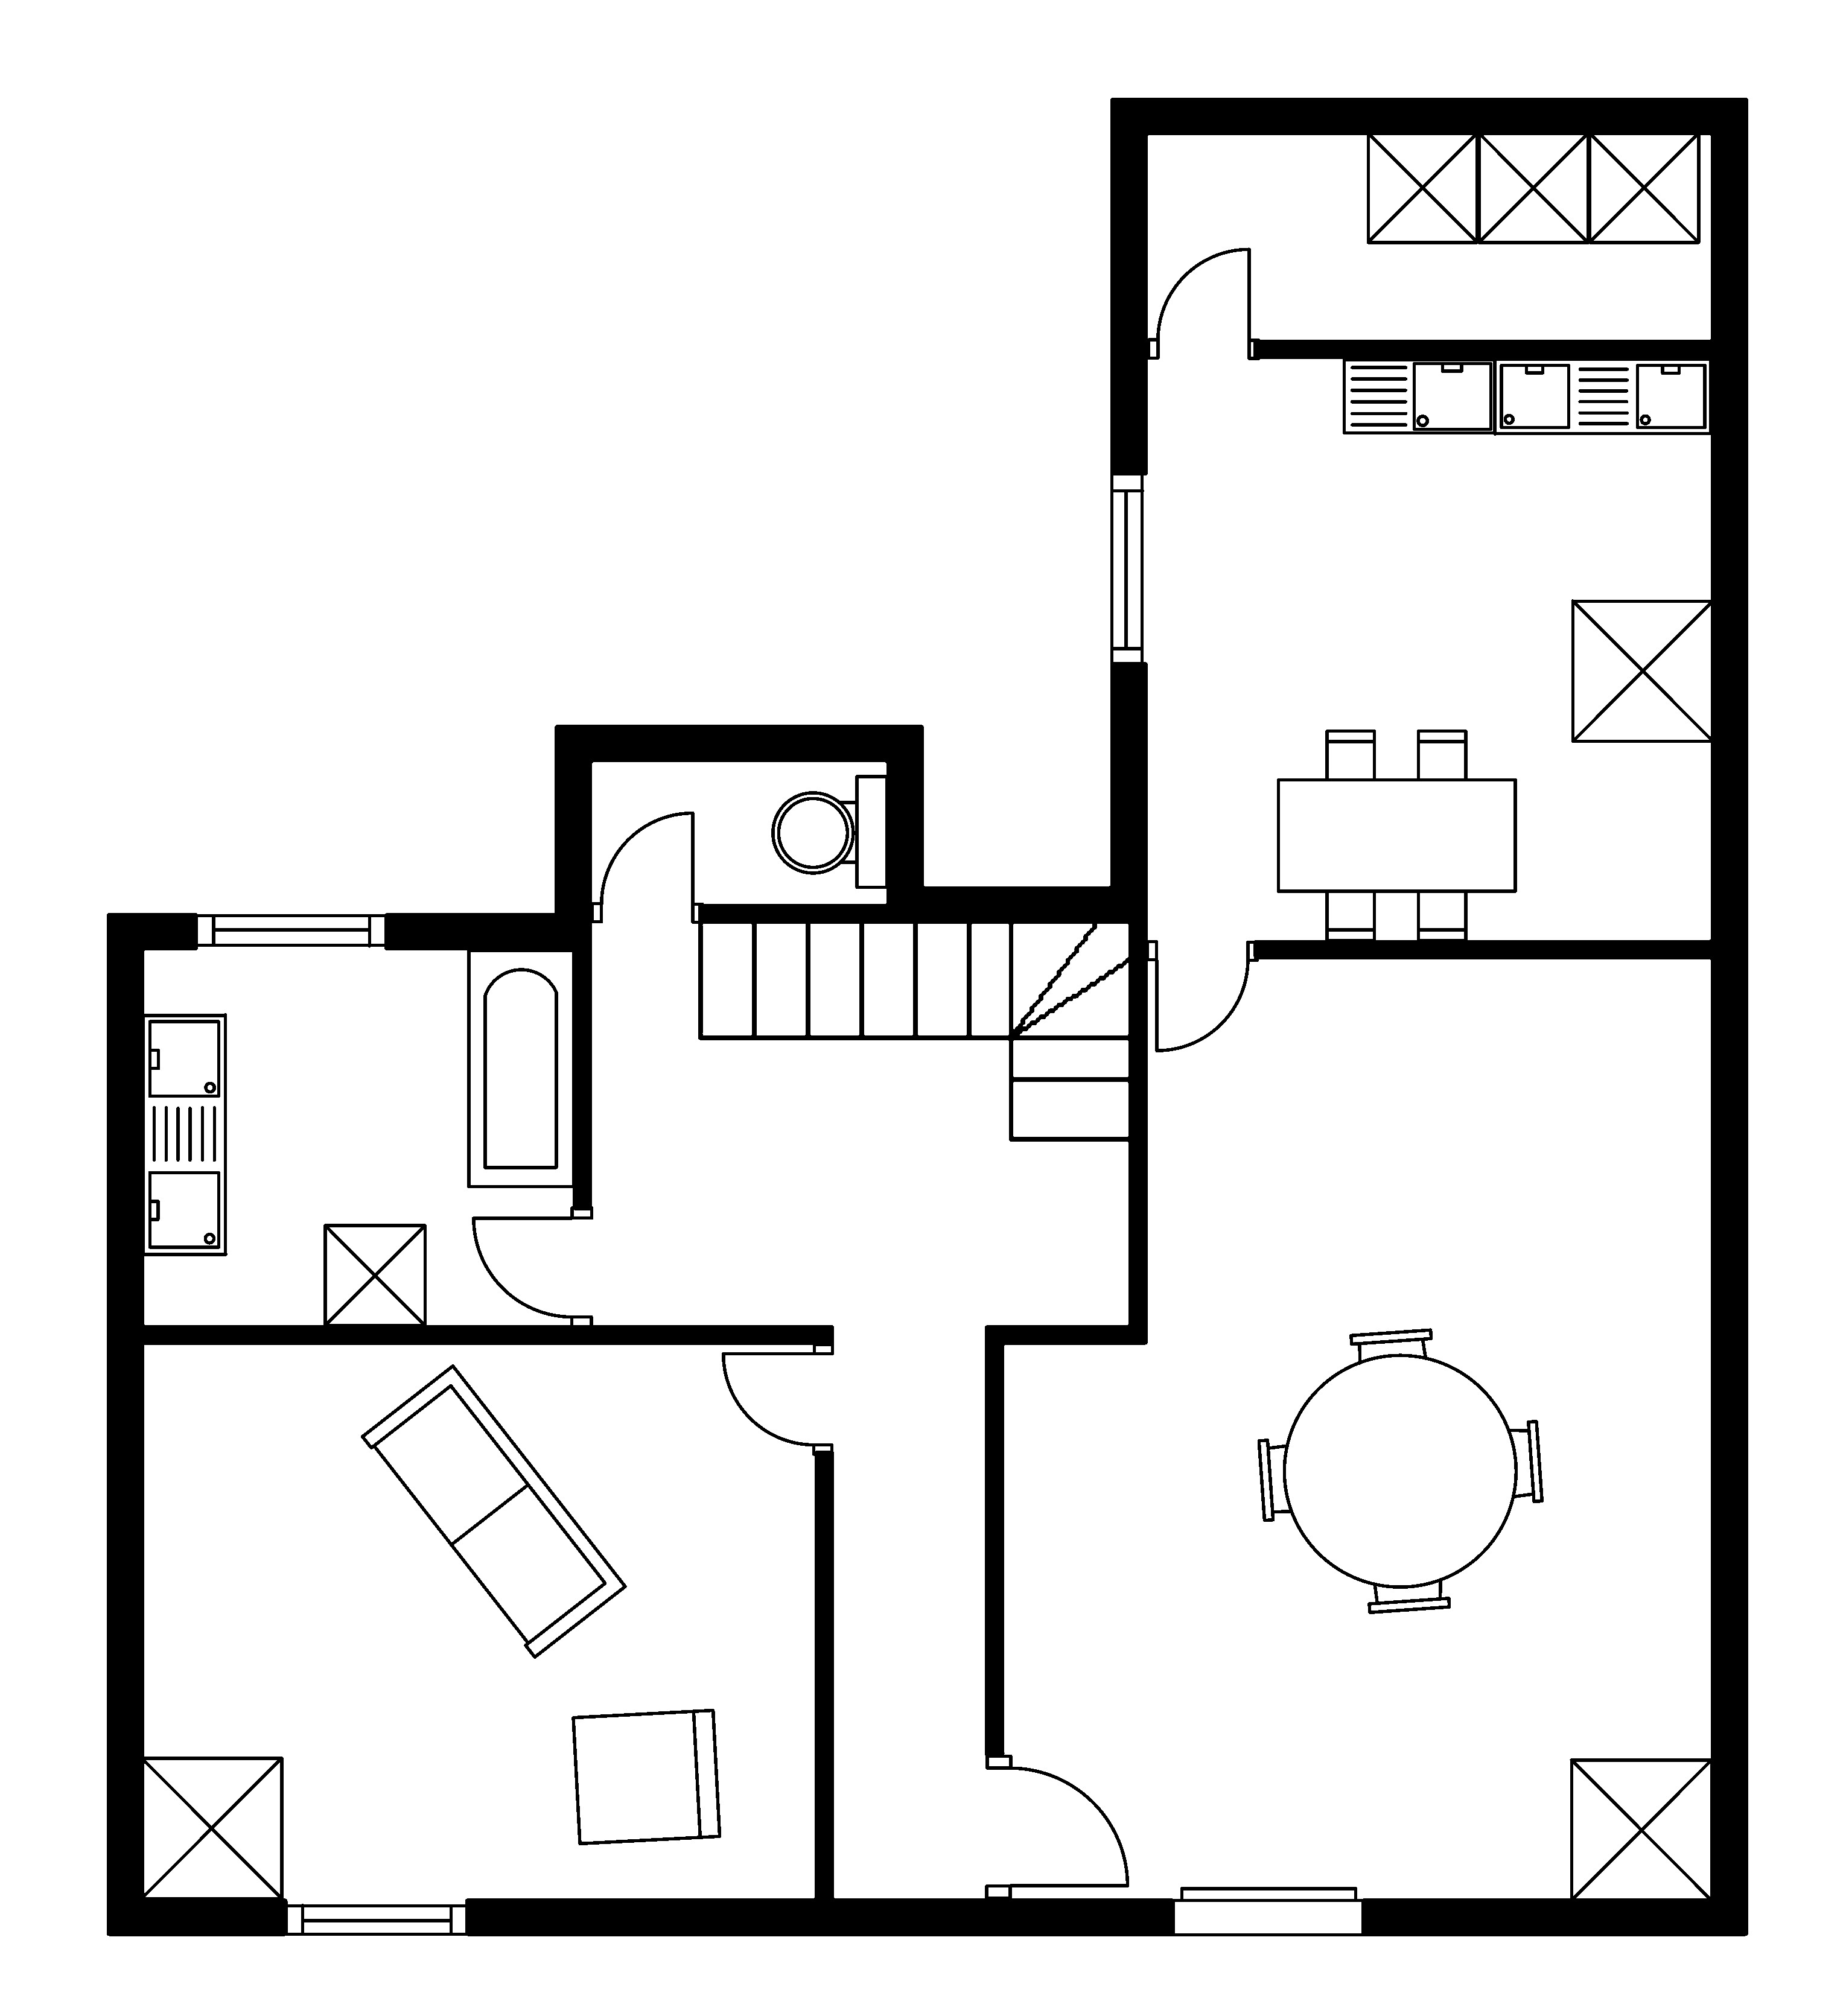coffee_table: (1568, 1756, 1714, 1902), (139, 1754, 285, 1900), (1570, 597, 1714, 743), (1586, 130, 1702, 246), (1475, 130, 1590, 246), (1365, 130, 1479, 246), (321, 1222, 427, 1328)
dining_table: (1275, 727, 1518, 943)
large_sink: (771, 773, 889, 889)
large_sofa: (358, 1363, 627, 1660)
round_table: (1256, 1328, 1544, 1614)
sink: (1340, 356, 1496, 436)
small_sofa: (569, 1707, 722, 1846)
tub: (465, 947, 576, 1189)
twin_sink: (141, 1012, 228, 1257), (1491, 356, 1713, 436)
